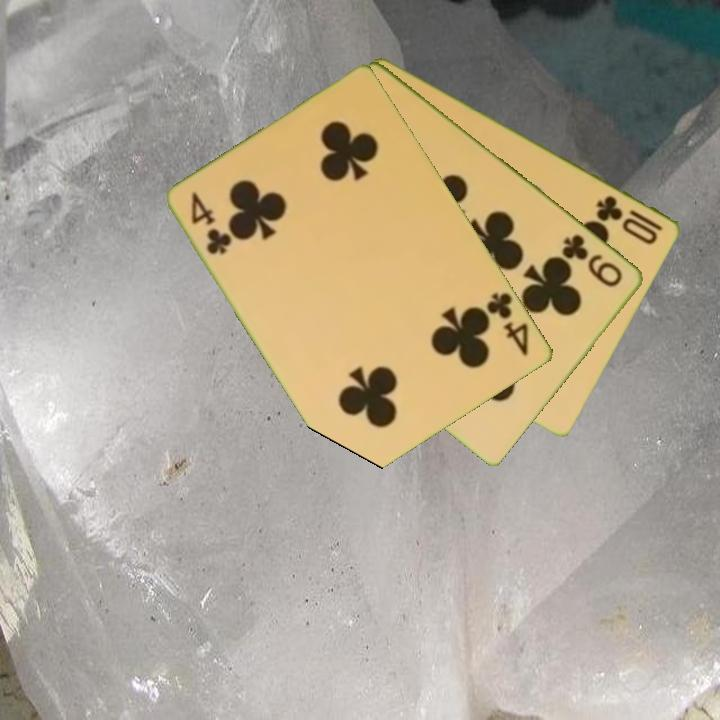10c: (593, 191, 666, 248)
4c: (483, 288, 532, 359), (188, 188, 235, 258)
9c: (559, 230, 626, 290)
